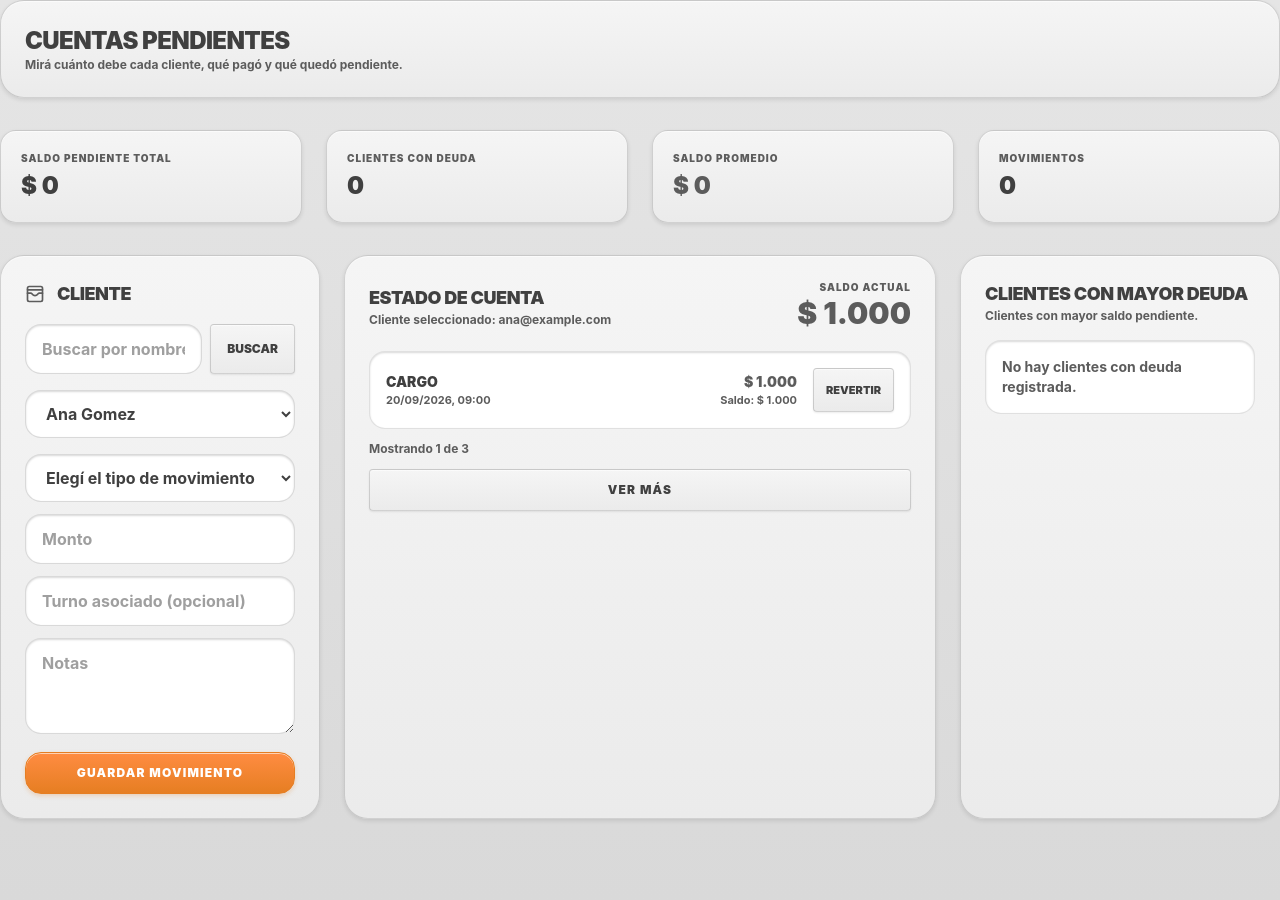
Scenario: LedgerPage: revertir un movimiento › confirma nombrando tipo, monto y fecha; "Volver" no revierte
Click the button "Revertir" at (854, 390), box [813,368,894,412]
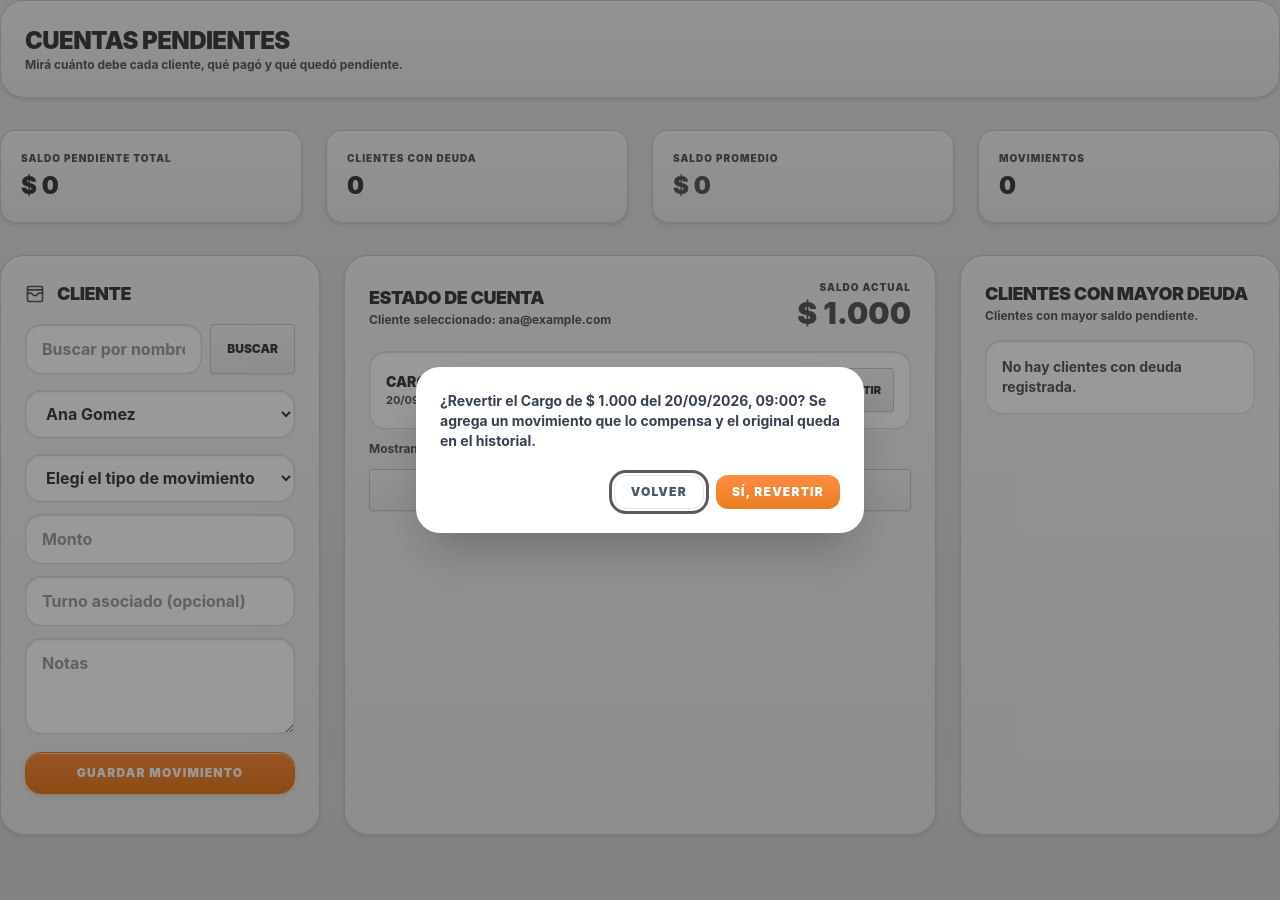
Result: the dialog shows "Cargo" at [440,392,840,449]
Result: the dialog shows "1.000" at [440,392,840,449]
Result: the dialog shows "20/09/2026" at [440,392,840,449]
Click the button "Volver" at (659, 492), box [614,475,704,509]
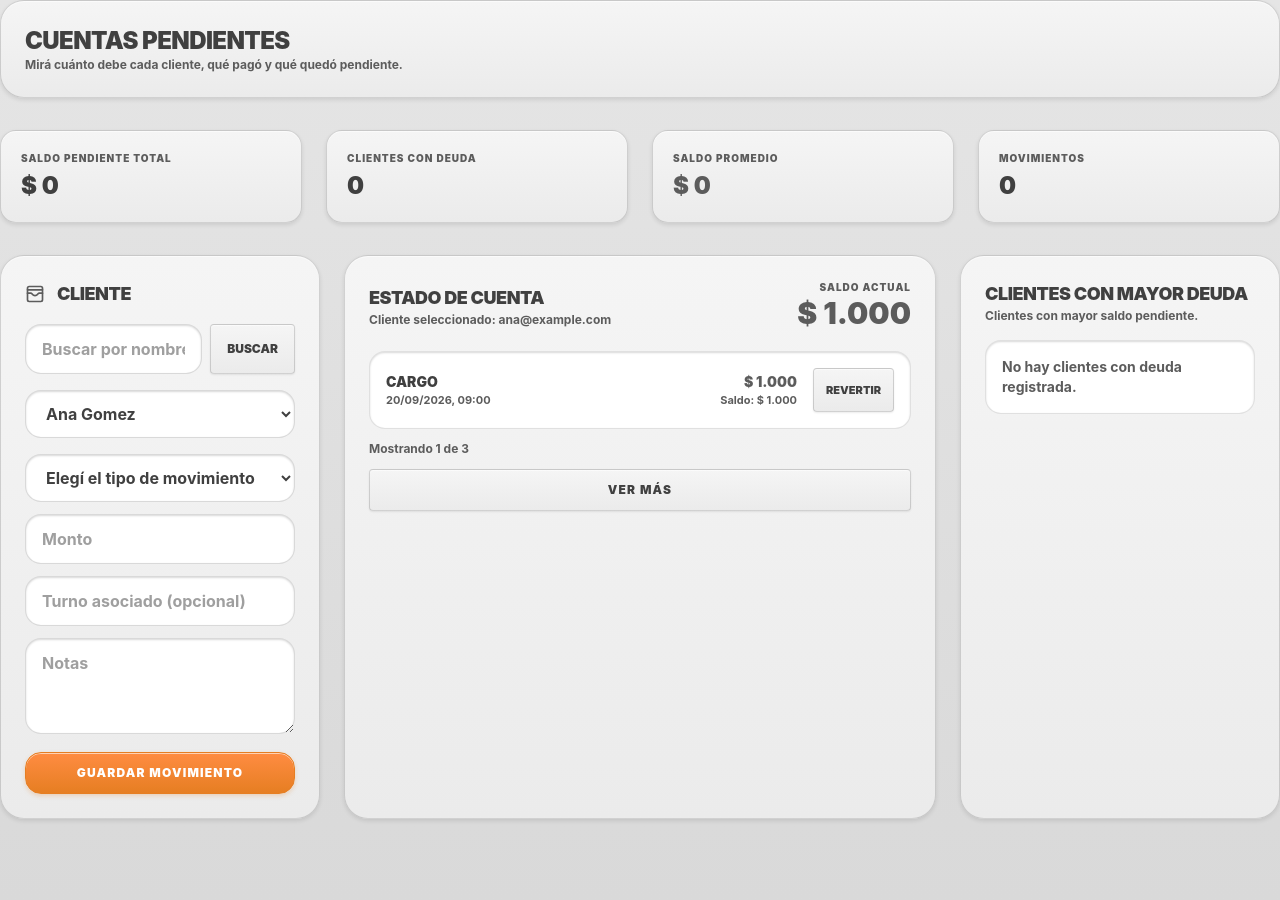
Result: the dialog is gone
